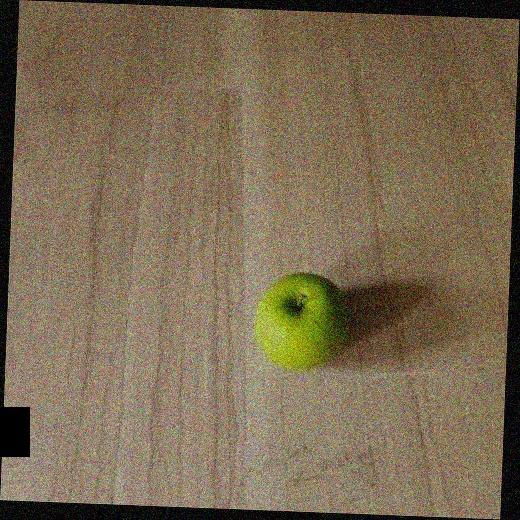green apple: (249, 266, 355, 377)
